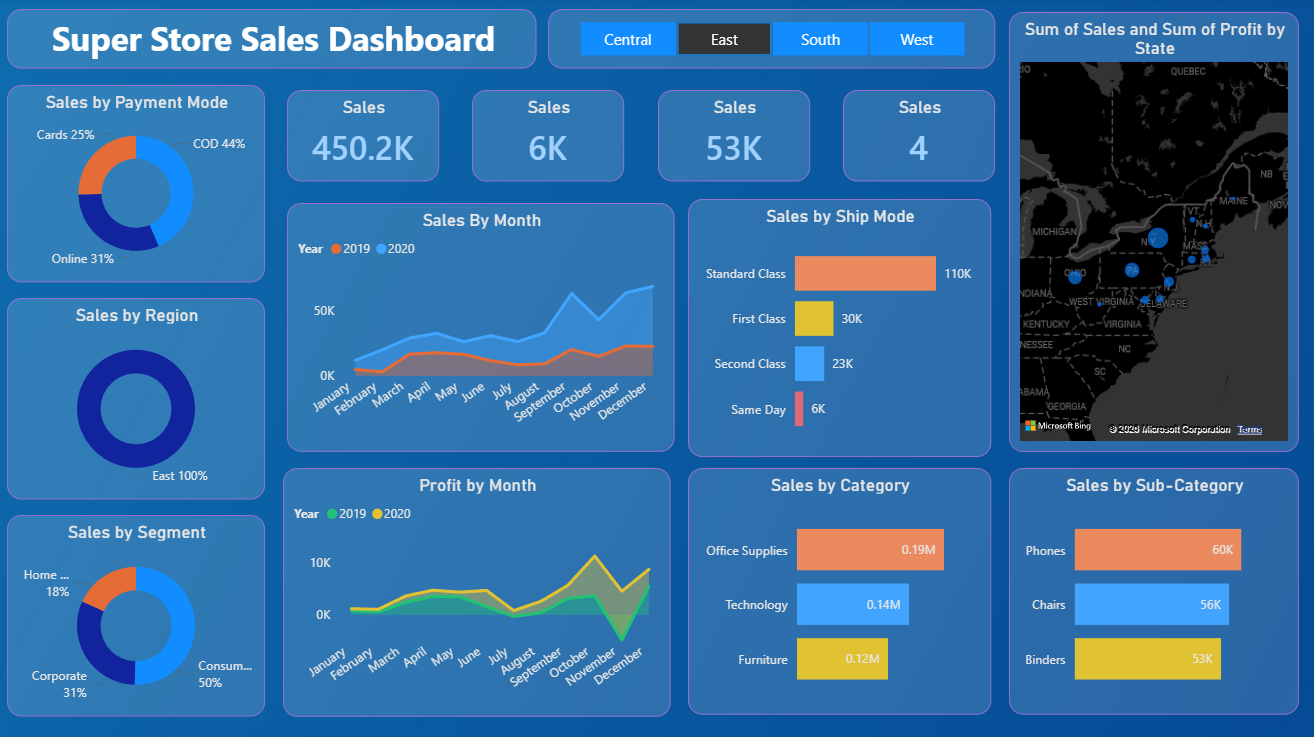

The dashboard page shown, as its layout file describes it:
{"tool":"powerbi","page":{"name":"Dashboard","canvas":[1280,720],"ordinal":0},"visuals":[{"type":"clusteredBarChart","title":"Sales by Category","fields":{"Category":["SuperStore_Sales_Dataset.Category"],"Y":["Sum(SuperStore_Sales_Dataset.Sales)"]},"box":[670.5,457.1,294.7,240.2],"z":0},{"type":"clusteredBarChart","title":"Sales by Sub-Category","fields":{"Category":["SuperStore_Sales_Dataset.Sub-Category"],"Y":["Sum(SuperStore_Sales_Dataset.Sales)"]},"box":[982.4,457.1,282.1,240.2],"z":1000},{"type":"clusteredBarChart","title":"Sales by Ship Mode","fields":{"Y":["Sum(SuperStore_Sales_Dataset.Sales)"],"Category":["SuperStore_Sales_Dataset.Ship Mode"]},"box":[670.2,195.5,294.7,250.9],"z":2000},{"type":"stackedAreaChart","title":"Sales By Month","fields":{"Y":["Sum(SuperStore_Sales_Dataset.Sales)"],"Category":["SuperStore_Sales_Dataset.Order Date.Variation.Date Hierarchy.Month","SuperStore_Sales_Dataset.Order Date.Variation.Date Hierarchy.Day"],"Series":["SuperStore_Sales_Dataset.Order Date.Variation.Date Hierarchy.Year"]},"box":[280.1,199.4,377.4,242.2],"z":3000},{"type":"stackedAreaChart","title":"Profit by Month","fields":{"Category":["SuperStore_Sales_Dataset.Order Date.Variation.Date Hierarchy.Month","SuperStore_Sales_Dataset.Order Date.Variation.Date Hierarchy.Day"],"Series":["SuperStore_Sales_Dataset.Order Date.Variation.Date Hierarchy.Year"],"Y":["Sum(SuperStore_Sales_Dataset.Profit)"]},"box":[275.9,457.1,377.4,242.2],"z":4000},{"type":"map","fields":{"Category":["SuperStore_Sales_Dataset.State"],"Size":["Sum(SuperStore_Sales_Dataset.Sales)"]},"box":[982.4,13.6,282.1,428],"z":5000},{"type":"donutChart","title":"Sales by Segment","fields":{"Category":["SuperStore_Sales_Dataset.Segment"],"Y":["Sum(SuperStore_Sales_Dataset.Sales)"]},"box":[7.8,502.9,250.9,196.5],"z":6000},{"type":"donutChart","title":"Sales by Payment Mode","fields":{"Category":["SuperStore_Sales_Dataset.Payment Mode"],"Y":["Sum(SuperStore_Sales_Dataset.Sales)"]},"box":[7.8,84.6,250.9,191.6],"z":7000},{"type":"donutChart","title":"Sales by Region","fields":{"Category":["SuperStore_Sales_Dataset.Region"],"Y":["Sum(SuperStore_Sales_Dataset.Sales)"]},"box":[7.8,291.3,250.9,196.5],"z":8000},{"type":"slicer","fields":{"Values":["SuperStore_Sales_Dataset.Region"]},"box":[534,10.7,434.8,58.4],"z":9000},{"type":"textbox","box":[7.8,10.7,514.5,58.4],"z":10000},{"type":"cardVisual","title":"Sales","fields":{"Data":["Sum(SuperStore_Sales_Dataset.Sales)"]},"box":[280.1,89.5,147.8,88.5],"z":11000},{"type":"cardVisual","title":"Sales","fields":{"Data":["Sum(SuperStore_Sales_Dataset.Quantity)"]},"box":[460.4,89.5,147.8,88.5],"z":12000},{"type":"cardVisual","title":"Sales","fields":{"Data":["Sum(SuperStore_Sales_Dataset.Profit)"]},"box":[640.6,89.5,147.8,88.5],"z":13000},{"type":"cardVisual","title":"Sales","fields":{"Data":["Avg(SuperStore_Sales_Dataset.AvgDelivery)"]},"box":[820.9,89.5,147.8,88.5],"z":14000}]}

Visuals, with their boxes in screenshot pixels (x1, y1, x2, y2), scaled from the page's 1280x720 canvas onto the 1314x737 screenshot:
"Sales by Category" clusteredBarChart: BBox(688, 468, 991, 714)
"Sales by Sub-Category" clusteredBarChart: BBox(1008, 468, 1298, 714)
"Sales by Ship Mode" clusteredBarChart: BBox(688, 200, 991, 457)
"Sales By Month" stackedAreaChart: BBox(288, 204, 675, 452)
"Profit by Month" stackedAreaChart: BBox(283, 468, 671, 716)
map - SuperStore_Sales_Dataset.State x Sum(SuperStore_Sales_Dataset.Sales): BBox(1008, 14, 1298, 452)
"Sales by Segment" donutChart: BBox(8, 515, 266, 716)
"Sales by Payment Mode" donutChart: BBox(8, 87, 266, 283)
"Sales by Region" donutChart: BBox(8, 298, 266, 499)
slicer - SuperStore_Sales_Dataset.Region: BBox(548, 11, 995, 71)
textbox: BBox(8, 11, 536, 71)
"Sales" cardVisual: BBox(288, 92, 439, 182)
"Sales" cardVisual: BBox(473, 92, 624, 182)
"Sales" cardVisual: BBox(658, 92, 809, 182)
"Sales" cardVisual: BBox(843, 92, 994, 182)
